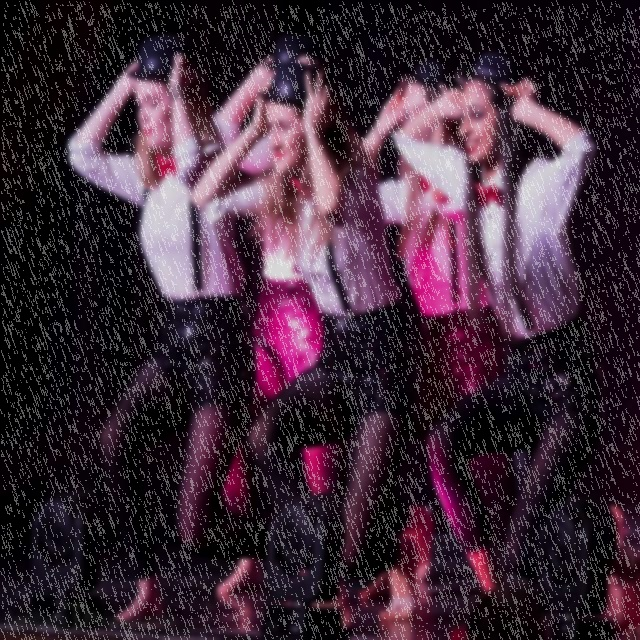pessoa: (188, 56, 423, 622), (391, 51, 625, 598), (66, 35, 274, 622), (360, 55, 510, 582), (209, 38, 346, 600), (441, 586, 556, 640), (386, 492, 436, 584)
